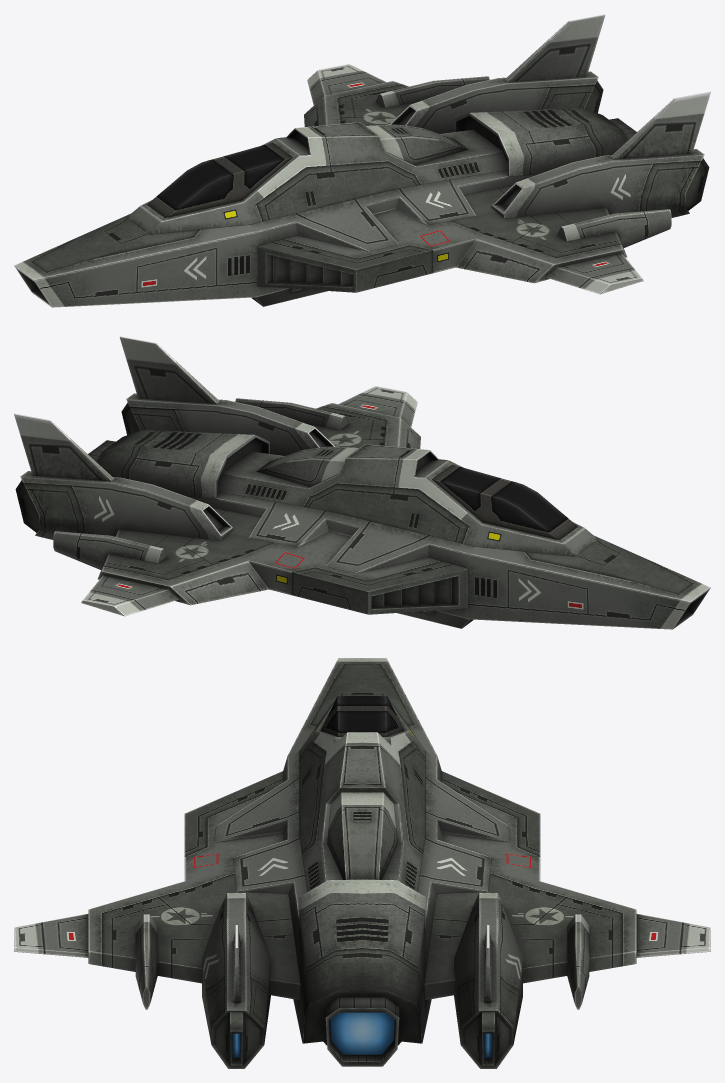
Rendered from space_frigate_1.FBX.
The picture shows the model from 3 angles, top to bottom: view 1: azimuth 30°, elevation 25°; view 2: azimuth 150°, elevation 25°; view 3: azimuth 270°, elevation 25°; orthographic projection. The views are drawn at different scales.
Parts seen in each view (by area): view 1: space_frigate_1; view 2: space_frigate_1; view 3: space_frigate_1.
Boxes of the visible parts, x1,y1,x2,y2 form: space_frigate_1: (14,14,710,307); space_frigate_1: (14,336,710,629); space_frigate_1: (14,658,710,1068).
Size of the model in its own units: 52.12 by 11.9 by 41.75.
Materials: 1 (1 with a texture image).
